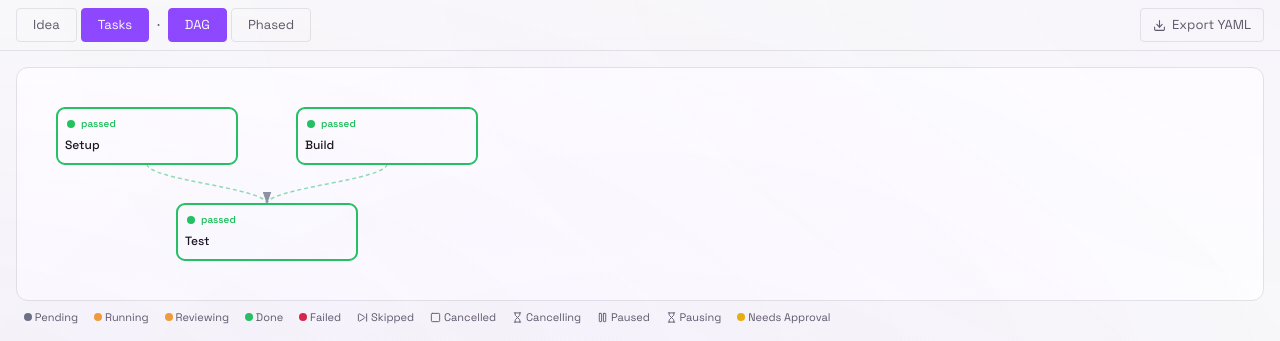
Test: ProjectDetailPage › shows spec content when empty input falls back to original_input
What coordinates should you click on to do the following:
click the button "Idea"
I would click on:
 (46, 25)
Its box is [16,8,77,42].
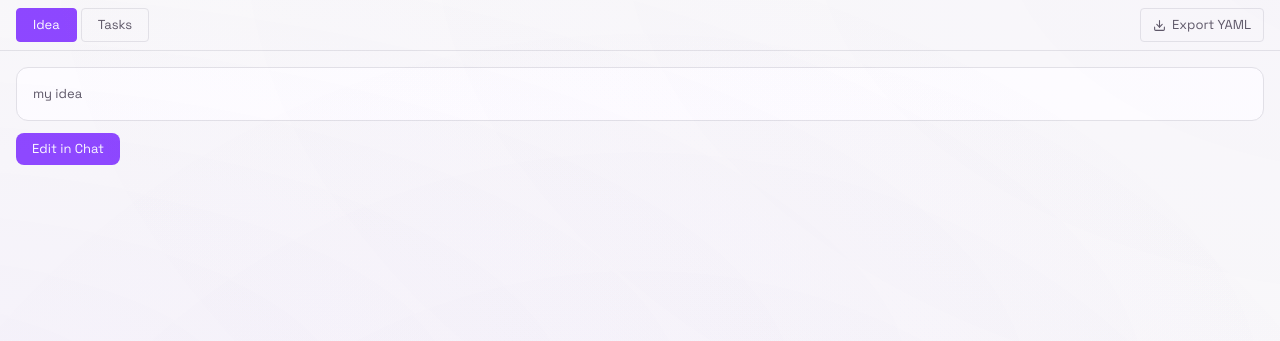
Expected: the text "my idea" is shown, [16,67,1264,121]
